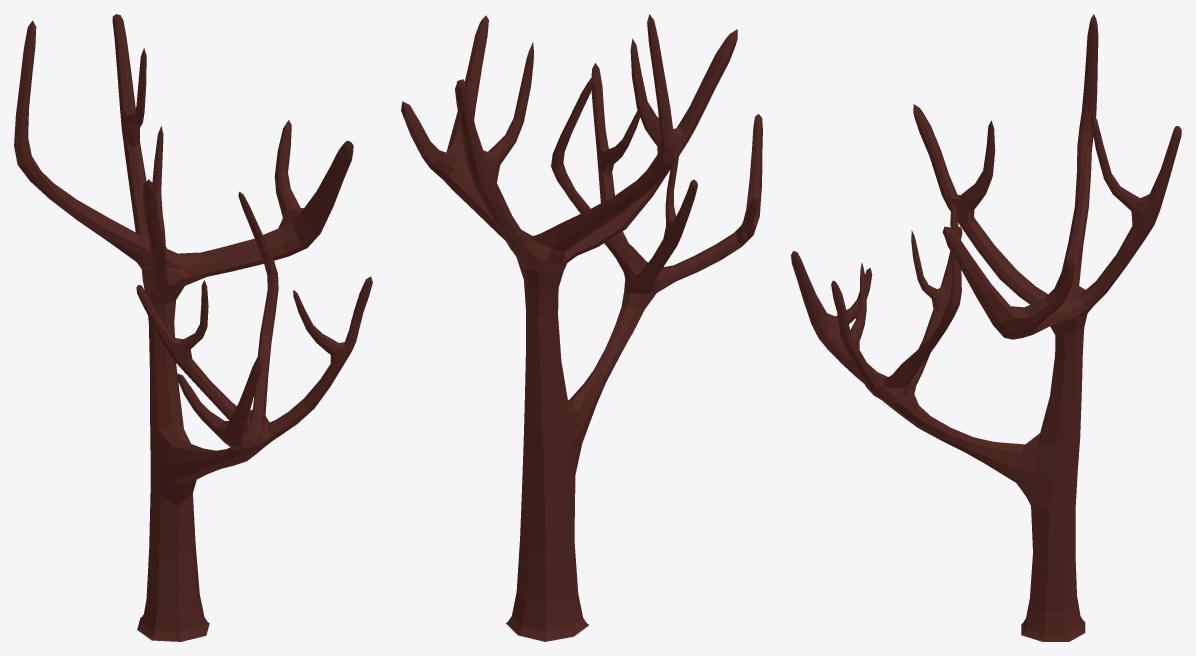
File: prop_CommonTree_Dead_2.glb
The picture shows the model from 3 angles, left to right: view 1: azimuth 30°, elevation 25°; view 2: azimuth 150°, elevation 25°; view 3: azimuth 270°, elevation 25°; orthographic projection. The views are drawn at different scales.
Parts seen in each view (by area): view 1: CommonTree_Dead_2; view 2: CommonTree_Dead_2; view 3: CommonTree_Dead_2.
Part boxes in pixels (x1,y1,x2,y2): CommonTree_Dead_2: (14, 14, 372, 641); CommonTree_Dead_2: (401, 14, 762, 641); CommonTree_Dead_2: (791, 14, 1181, 641).
Bounding box in the file's own units: 1.33 × 2.96 × 1.86.
